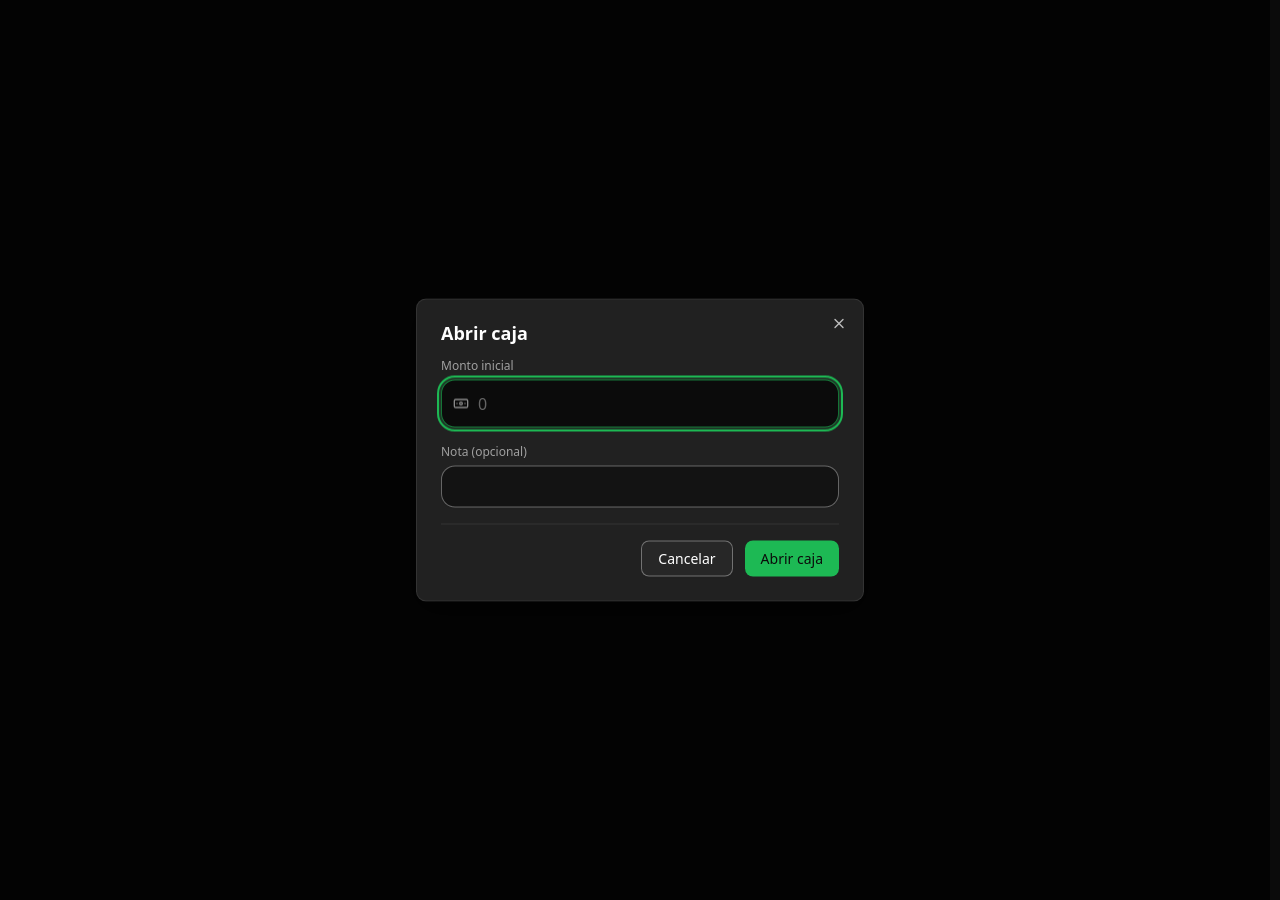
OpenCashSessionDialog › rejects submitting with no amount typed
Click the button "Abrir caja" at (792, 558), box [745,540,839,576]
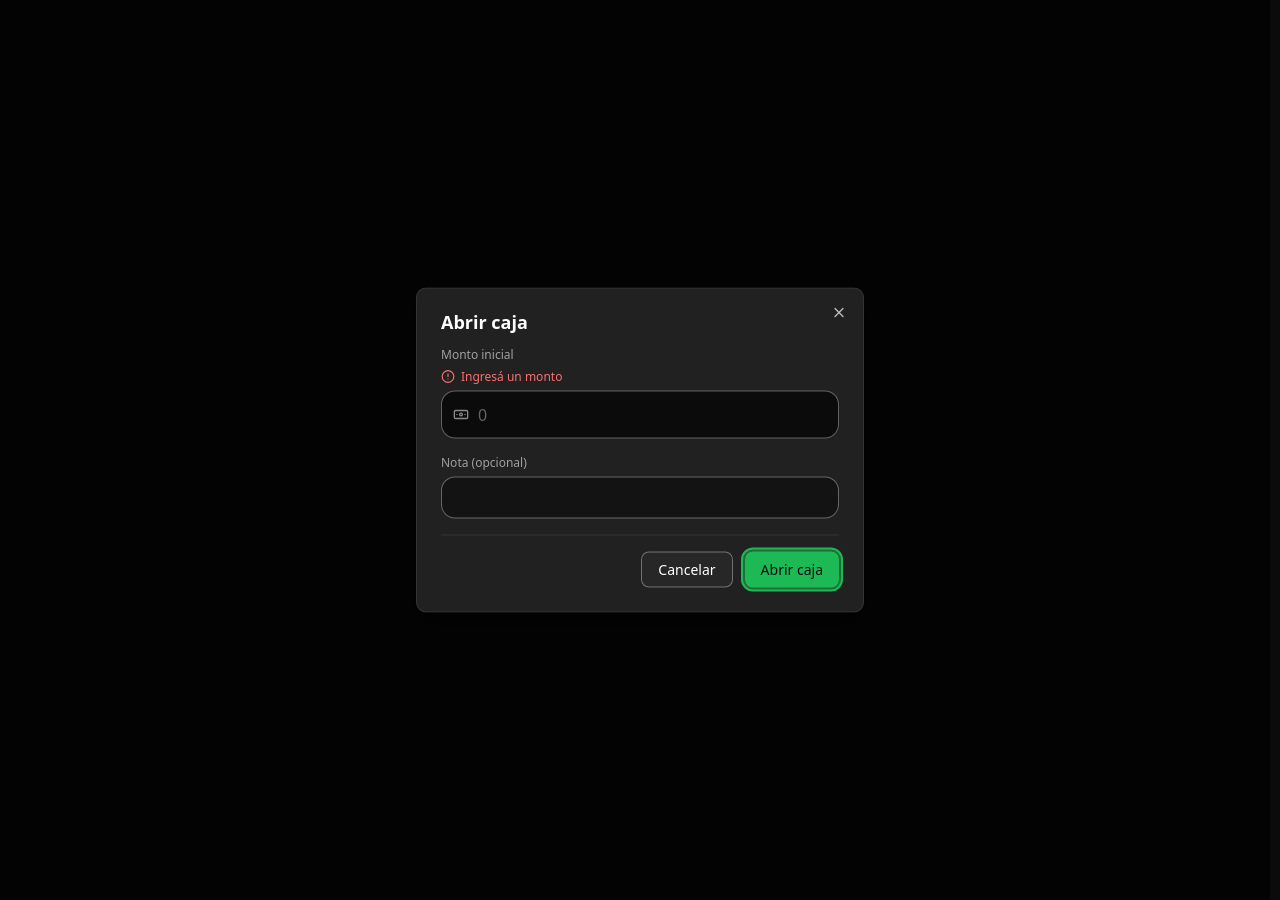
Expected: the text "Ingresá un monto" is shown, [441,368,562,384]
